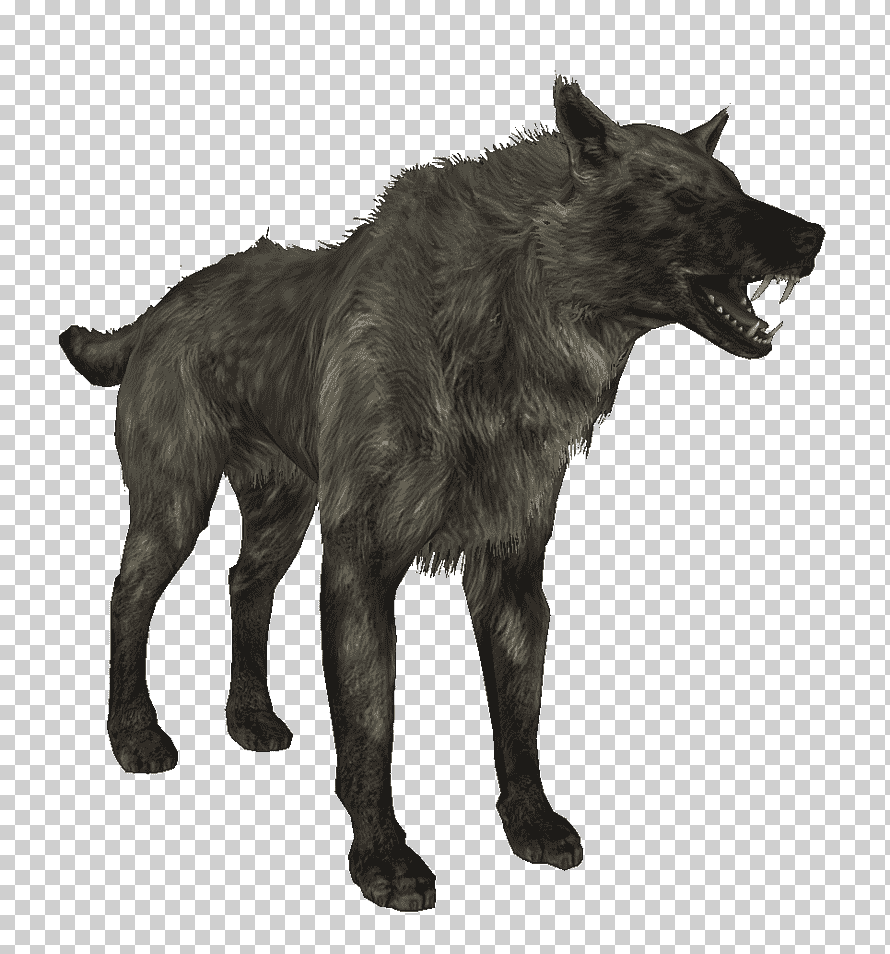Lobo: (59, 55, 856, 909)
